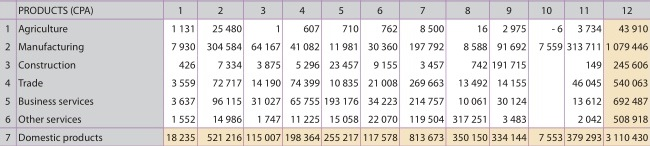column: (18, 3, 103, 146), (606, 1, 648, 146), (207, 1, 242, 146), (324, 2, 359, 146), (492, 2, 527, 146), (364, 1, 398, 146), (567, 1, 601, 146), (410, 2, 444, 145), (247, 1, 280, 146), (286, 1, 319, 146), (453, 1, 486, 146), (167, 1, 195, 146), (538, 1, 562, 145), (5, 2, 10, 146)
row: (1, 5, 650, 16), (1, 42, 650, 53), (1, 60, 650, 71), (1, 24, 650, 34), (1, 78, 650, 87), (1, 96, 650, 105), (1, 115, 650, 124), (1, 133, 647, 142)
